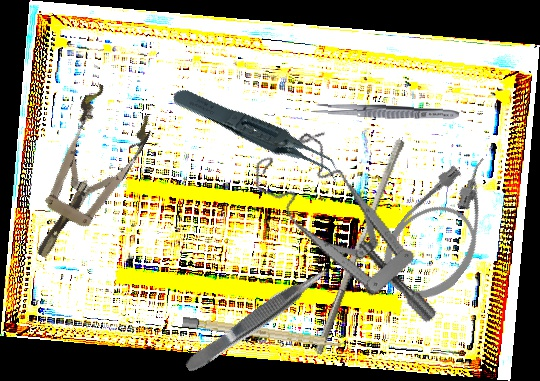Cannula: (366, 141, 526, 316)
Dressing Forceps: (311, 101, 460, 123)
Pusher: (313, 135, 406, 359)
Scalpel Handle: (182, 316, 346, 350)
Speculum: (243, 111, 441, 362), (6, 80, 161, 274)
Tissue Forceps: (169, 56, 347, 216), (180, 262, 335, 376)
